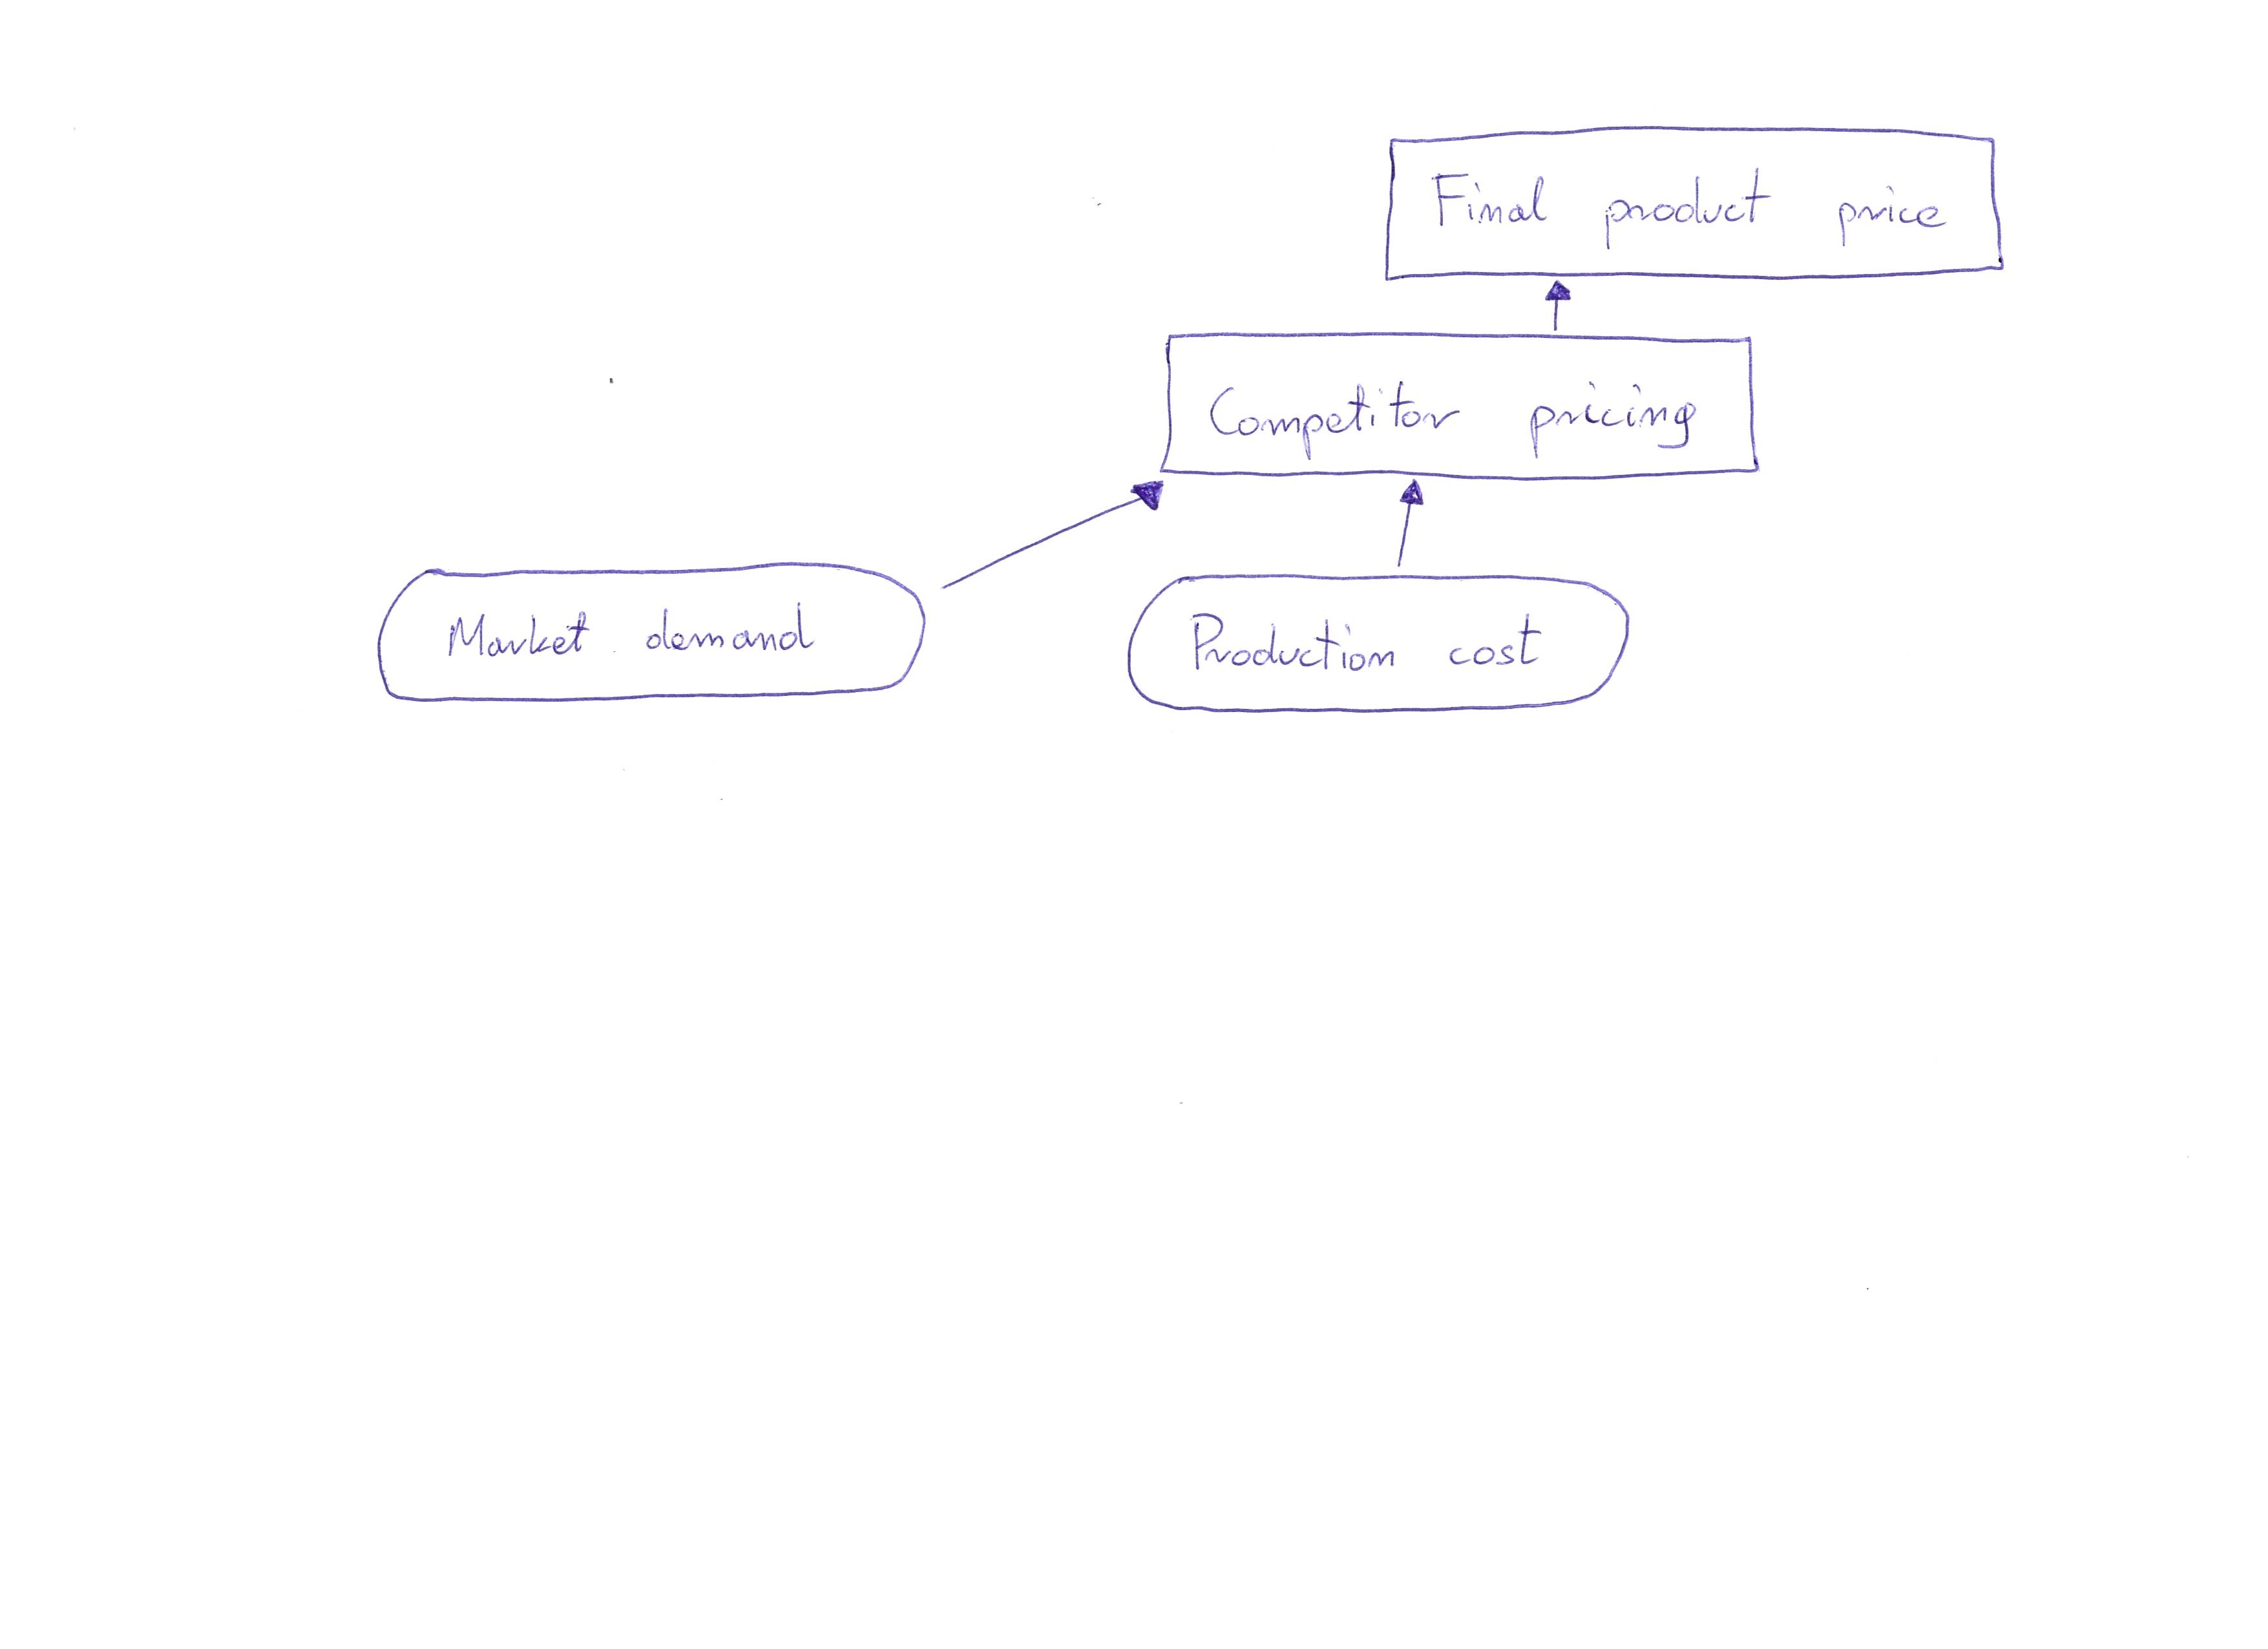arrow_information_requirement: (939, 472, 1167, 599), (1382, 479, 1437, 571), (1532, 278, 1581, 335)
node_decision: (1377, 118, 2016, 282), (1159, 326, 1768, 483)
node_input_data: (359, 558, 935, 708), (1116, 569, 1659, 721)
text: (1425, 160, 1965, 257), (1204, 370, 1712, 465), (1182, 603, 1564, 687), (438, 601, 828, 677)
